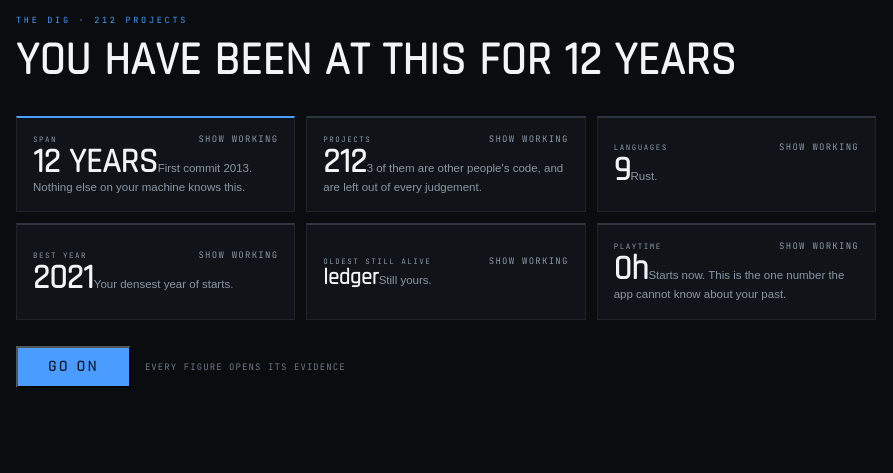
it: only one panel is open at a time
Click the button with test id "fr-panel" that starts with "SPAN": (156, 164) [16,116,295,212]
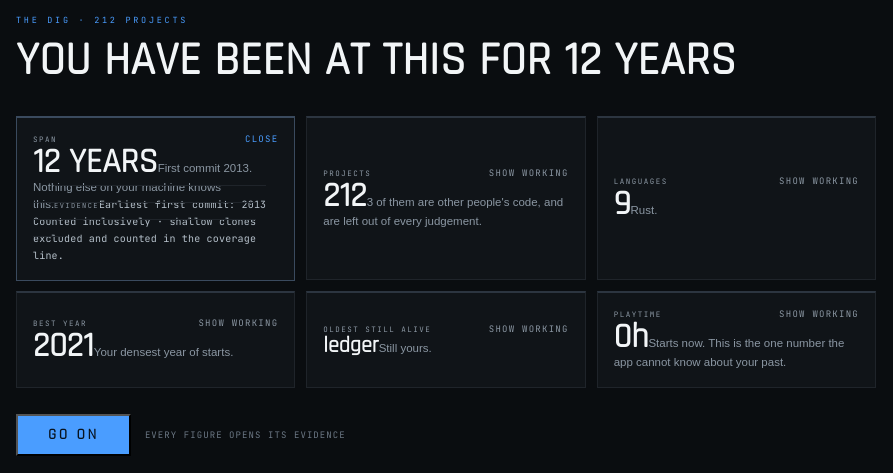
Click the button with test id "fr-panel" that starts with "BEST YEAR": (60, 323) [16,291,295,388]
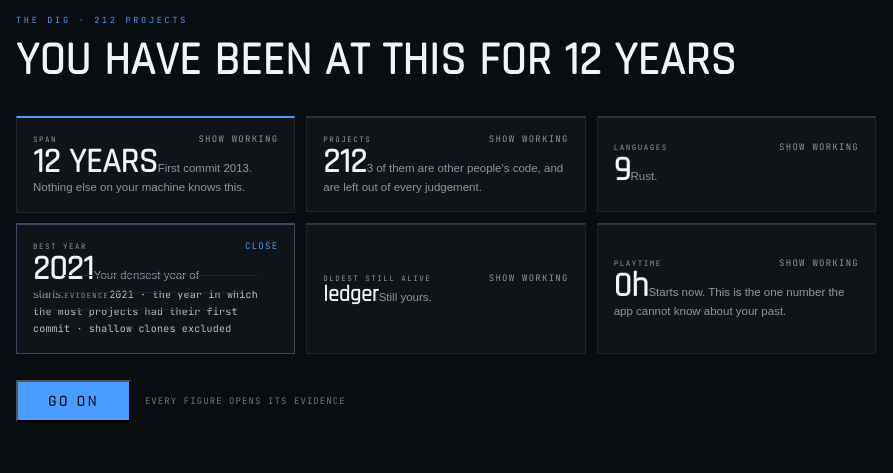
Expected: the button with test id "fr-panel" is collapsed, [16,116,295,212]
Expected: the button with test id "fr-panel" is expanded, [16,223,295,354]
